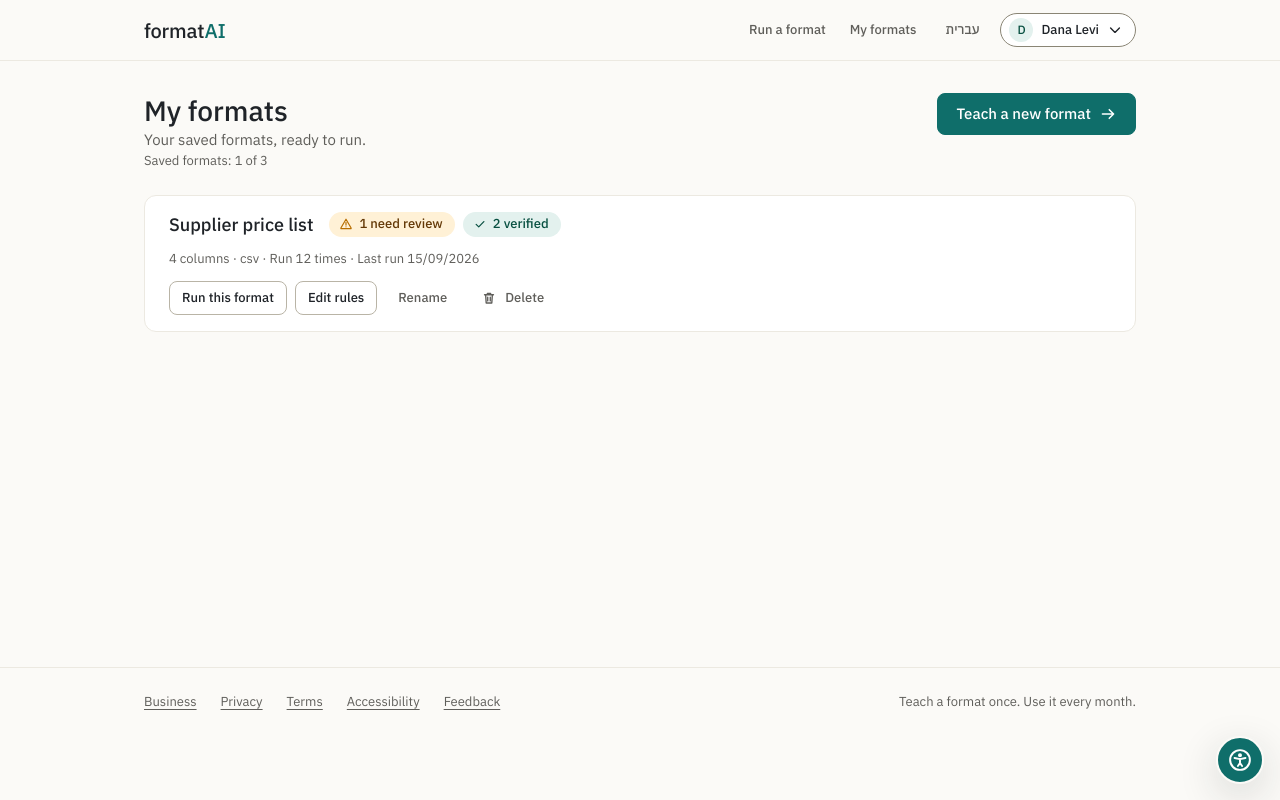
Test case: My formats › rename › renames in place with the server's answer
Expected: the list with test id "format-list" is shown, [144,195,1136,332]
Click the button "Rename".
click(423, 298)  # box [385,281,460,315]
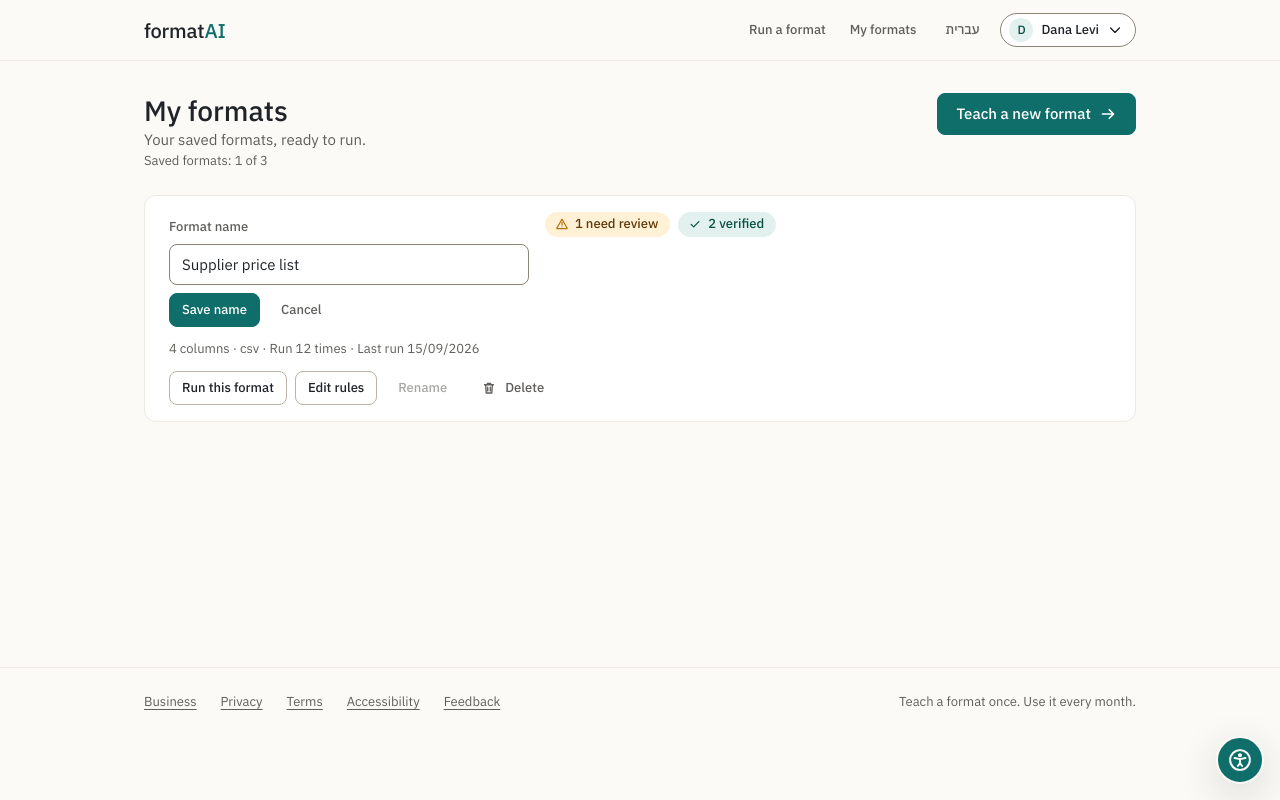
Replace the text in the field labelled "Format name" with "ERP catalog" at (349, 264), box [169,244,529,285]
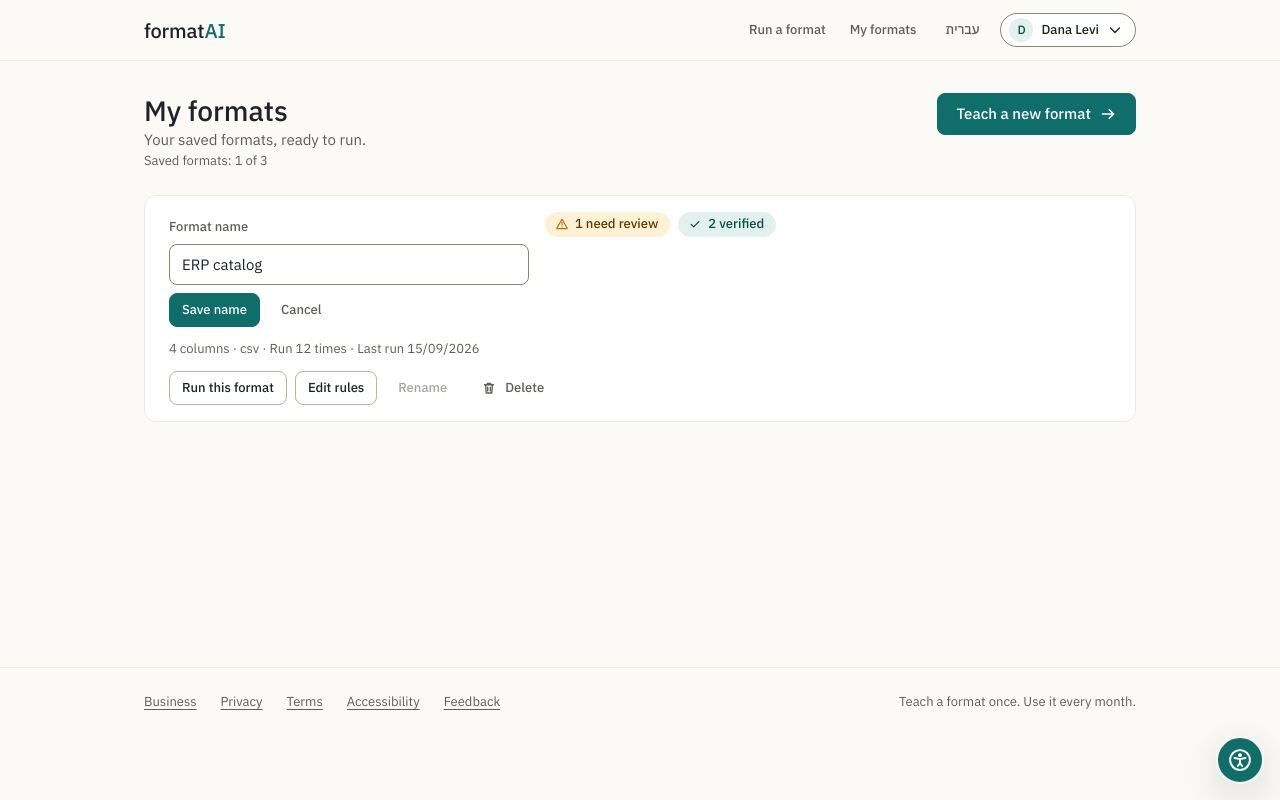
Click the button "Save name".
click(214, 310)  # box [169,293,260,327]
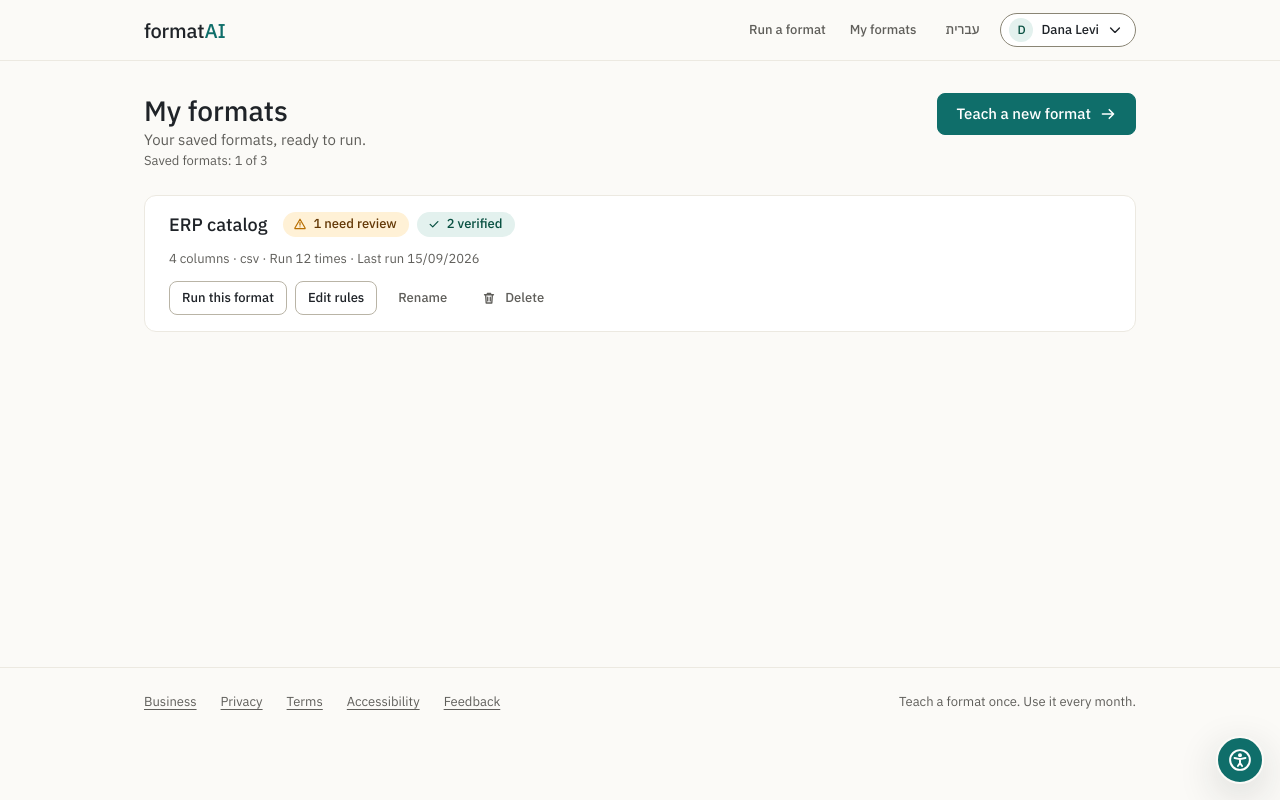
Result: the heading "ERP catalog" is shown at [169,214,267,237]
Result: the label labelled "Format name" is gone
